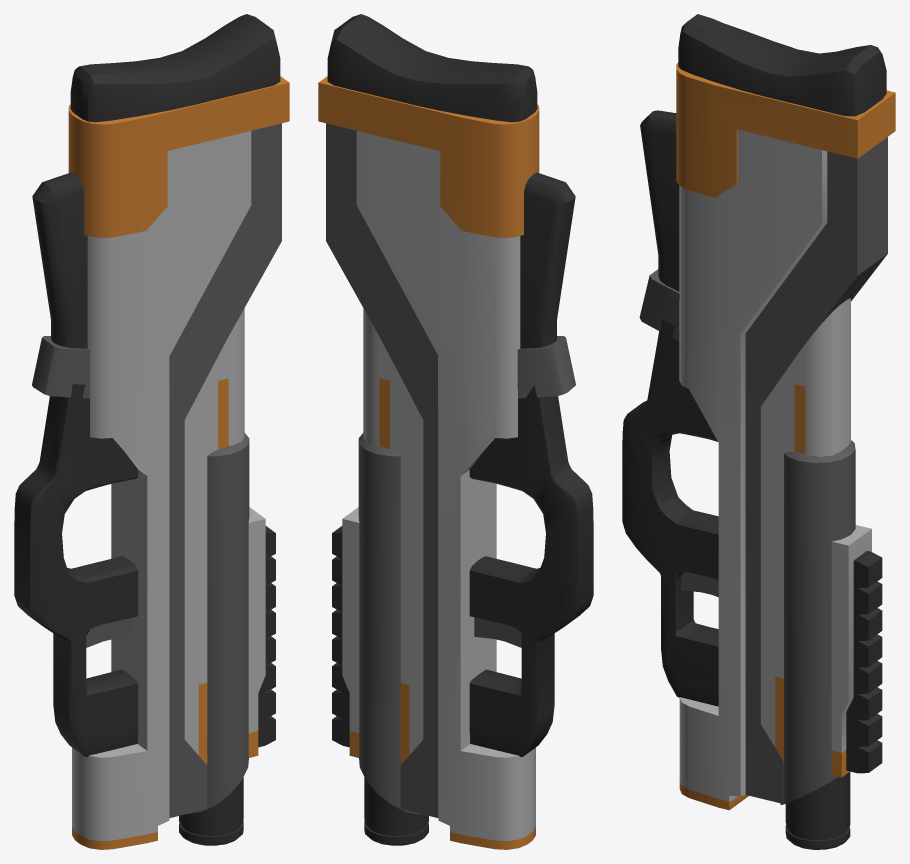
The model's file is qg-grenade-4-lod1.glb.
3 renders of one model, left to right at view 1: azimuth 30°, elevation 25°; view 2: azimuth 150°, elevation 25°; view 3: azimuth 330°, elevation 25°, orthographic.
Visible parts, largest first — view 1: WeaponMesh_qg-grenade-4_Grenade_3; view 2: WeaponMesh_qg-grenade-4_Grenade_3; view 3: WeaponMesh_qg-grenade-4_Grenade_3.
Part boxes in pixels (left/top/right/bottom): WeaponMesh_qg-grenade-4_Grenade_3: left=14, top=14, right=289, bottom=849; WeaponMesh_qg-grenade-4_Grenade_3: left=318, top=14, right=593, bottom=849; WeaponMesh_qg-grenade-4_Grenade_3: left=622, top=14, right=895, bottom=849.
Size of the model in its own units: 0.136 by 0.42 by 0.0362.
